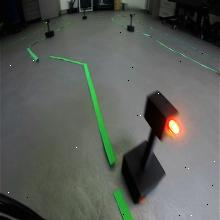red: (146, 90, 182, 141)
